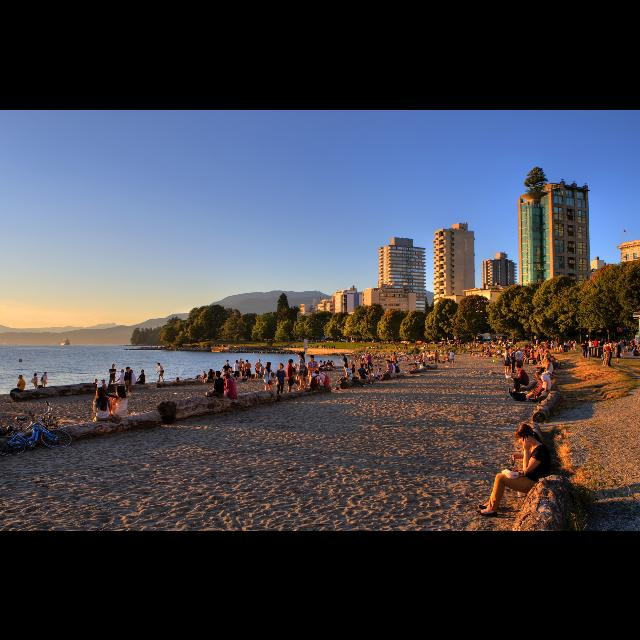head: (516, 422, 534, 446), (96, 386, 105, 396), (116, 385, 124, 393), (514, 363, 522, 371), (536, 371, 542, 379), (538, 376, 544, 384), (215, 369, 221, 376), (18, 374, 24, 380), (223, 372, 229, 378), (278, 363, 284, 369), (288, 358, 294, 364), (314, 369, 320, 375), (266, 362, 272, 366), (298, 351, 302, 357), (310, 354, 314, 360), (318, 367, 322, 373), (364, 362, 368, 368), (386, 358, 390, 364), (506, 346, 510, 352), (604, 338, 610, 342), (34, 372, 38, 376), (94, 378, 98, 382), (102, 379, 106, 383), (121, 369, 125, 373), (127, 366, 131, 370), (130, 369, 134, 373), (141, 369, 145, 373), (258, 358, 262, 362), (344, 364, 348, 368), (352, 364, 356, 368), (361, 363, 365, 367), (378, 367, 382, 371), (386, 359, 390, 363), (389, 360, 393, 364), (391, 360, 395, 364), (414, 362, 418, 366), (512, 348, 516, 352), (517, 346, 521, 350), (546, 358, 550, 362), (608, 338, 612, 342), (615, 340, 619, 344), (112, 364, 115, 368), (227, 358, 230, 362), (227, 362, 230, 366), (44, 372, 48, 374), (158, 362, 160, 366), (236, 359, 238, 363), (260, 362, 262, 366), (392, 360, 394, 364), (422, 350, 426, 352), (230, 366, 232, 370), (177, 377, 180, 379), (242, 361, 244, 364), (204, 370, 206, 372), (210, 368, 212, 370), (240, 358, 242, 360), (246, 360, 248, 362), (368, 352, 370, 354), (394, 352, 396, 354), (419, 359, 421, 361), (422, 362, 424, 364), (436, 349, 438, 351), (452, 349, 454, 351)
person: (475, 423, 553, 517), (92, 386, 120, 426), (516, 370, 552, 400), (286, 358, 310, 398), (508, 377, 548, 398), (110, 386, 128, 426), (220, 370, 238, 404), (510, 363, 530, 393), (206, 370, 224, 402), (307, 354, 319, 396), (297, 352, 309, 391), (10, 373, 26, 402), (262, 361, 274, 399), (350, 363, 368, 387), (333, 363, 352, 385), (316, 366, 330, 394), (276, 362, 286, 398), (376, 359, 392, 381), (358, 362, 374, 383), (309, 368, 321, 394), (540, 357, 554, 379), (604, 338, 614, 367), (502, 346, 512, 374), (381, 358, 394, 379), (514, 346, 524, 372), (114, 368, 126, 389), (382, 360, 396, 378), (124, 366, 132, 396), (220, 362, 232, 382), (612, 338, 622, 362), (602, 338, 610, 367), (386, 360, 400, 376), (108, 364, 116, 391), (202, 368, 215, 384), (136, 368, 146, 388), (244, 359, 253, 381), (100, 378, 108, 402), (404, 362, 420, 374), (348, 363, 358, 382), (29, 372, 38, 392), (157, 361, 166, 381), (361, 362, 372, 378), (390, 351, 398, 373), (90, 378, 98, 399), (128, 368, 136, 389), (233, 358, 240, 382), (254, 358, 262, 379), (389, 358, 401, 372), (509, 348, 516, 372), (40, 371, 48, 391), (226, 366, 234, 386), (366, 352, 374, 371), (376, 368, 388, 380), (257, 362, 265, 378), (433, 349, 441, 365), (238, 357, 244, 377), (416, 361, 426, 372), (241, 360, 247, 378), (173, 376, 180, 388), (200, 369, 208, 378), (226, 358, 230, 376), (408, 360, 422, 364), (422, 350, 426, 364), (450, 350, 454, 364)
